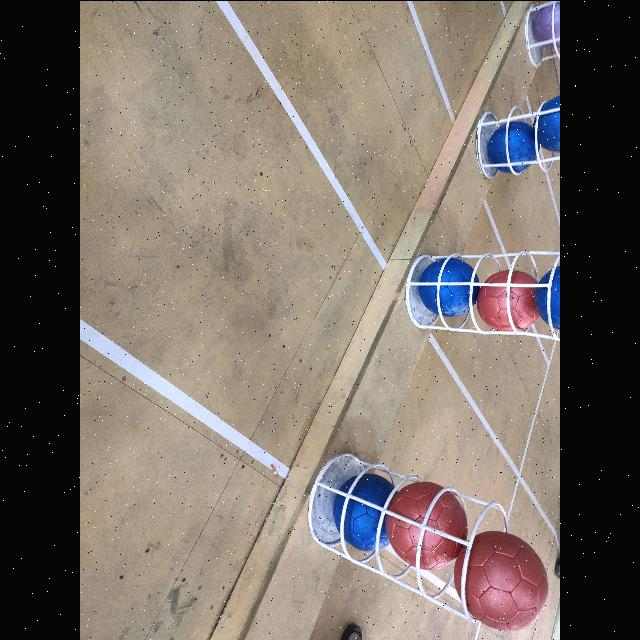B: (332, 472, 392, 552), (421, 255, 479, 317), (486, 120, 538, 170), (536, 262, 560, 334), (538, 94, 560, 150)
R: (457, 531, 548, 629), (388, 480, 468, 568), (480, 270, 540, 332)
